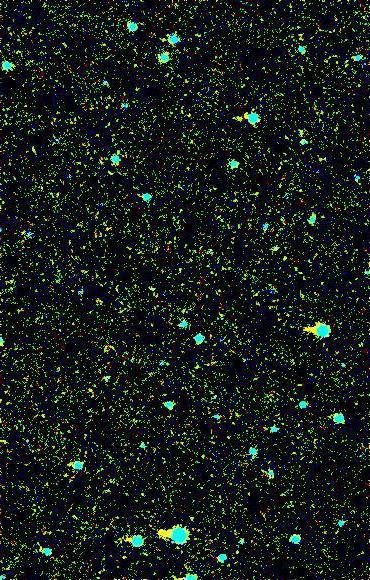star: (222, 103, 252, 133)
